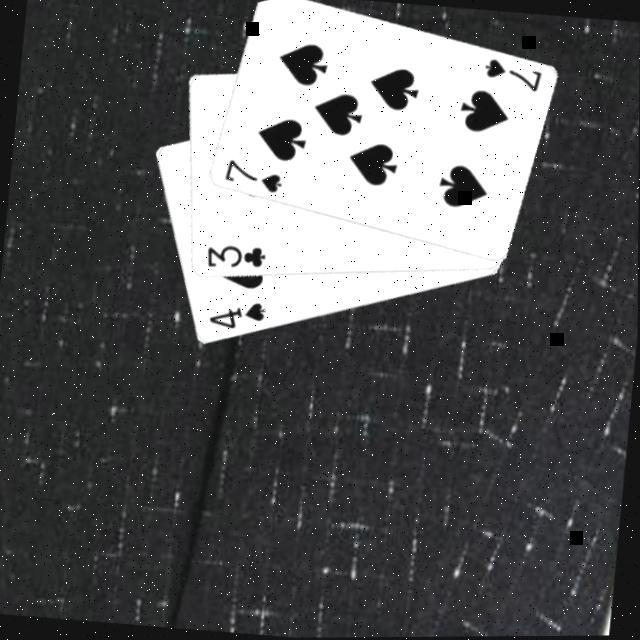3C: (204, 241, 270, 276)
4S: (206, 297, 271, 337)
7S: (220, 158, 287, 199), (479, 57, 546, 98)
